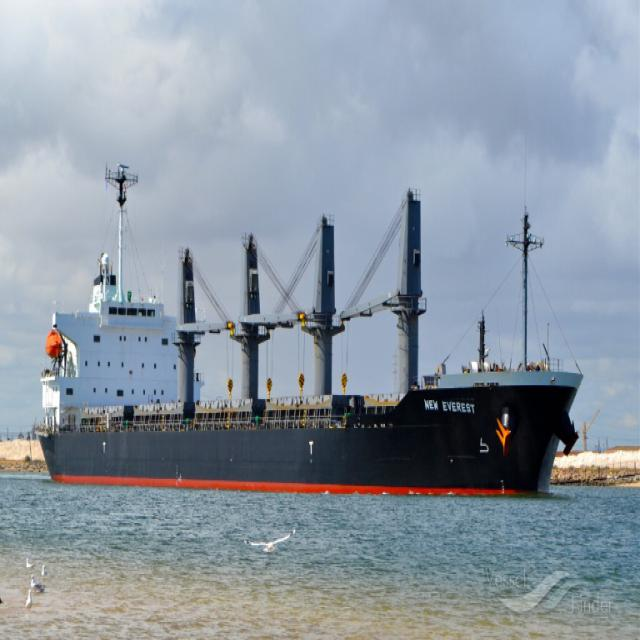OCR: (420, 390, 481, 419)
